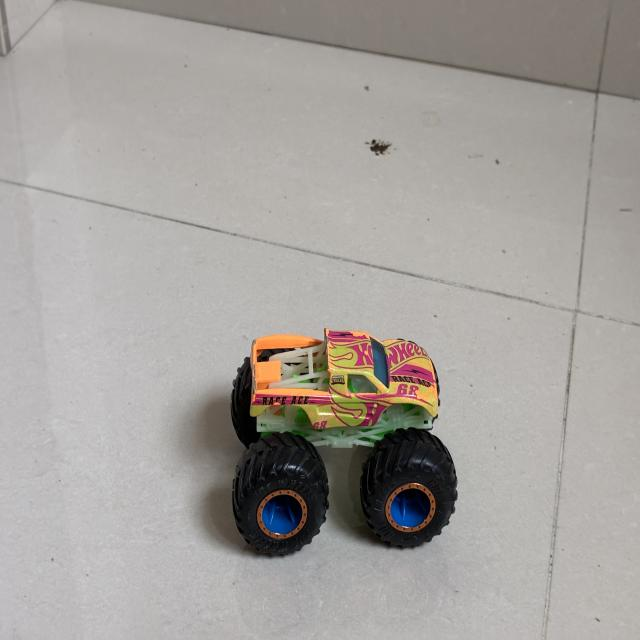cars: (231, 329, 457, 555)
